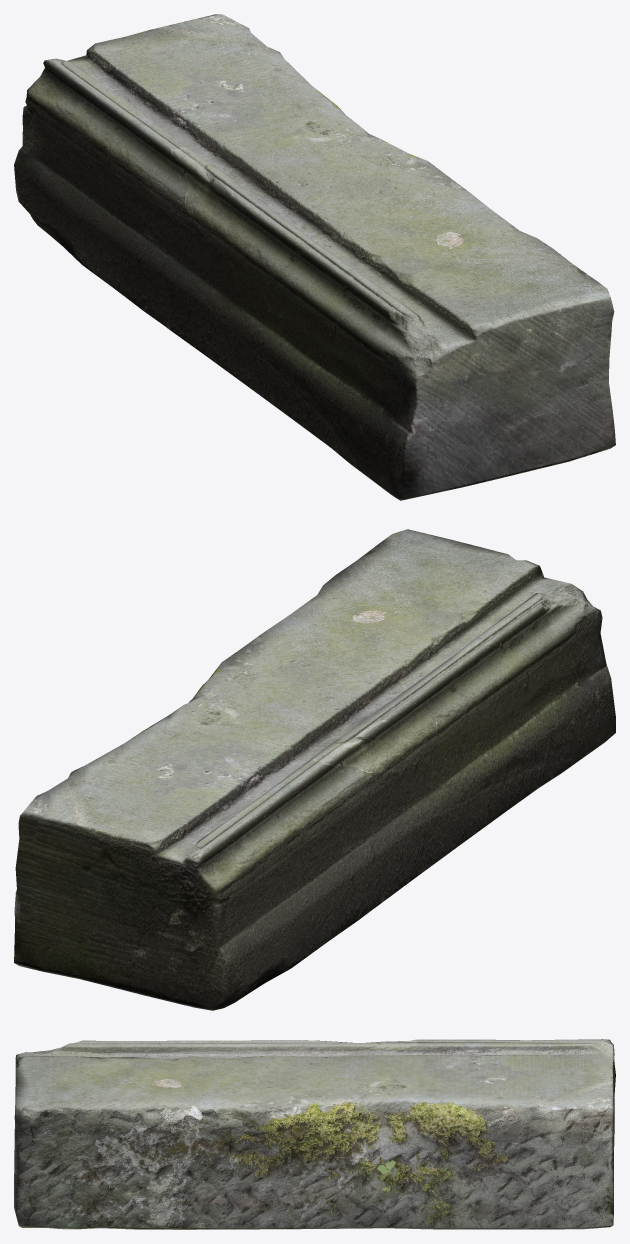
The model's file is sm_GraveDebris_05_01.fbx.
3 renders of one model, top to bottom at view 1: azimuth 30°, elevation 25°; view 2: azimuth 150°, elevation 25°; view 3: azimuth 270°, elevation 25°, orthographic. The views are drawn at different scales.
Visible parts, largest first — view 1: sm_GraveDebris_05_01_LOD0; view 2: sm_GraveDebris_05_01_LOD0; view 3: sm_GraveDebris_05_01_LOD0.
Part boxes in pixels (bbox=[...]): sm_GraveDebris_05_01_LOD0: bbox=[14, 14, 615, 500]; sm_GraveDebris_05_01_LOD0: bbox=[14, 529, 615, 1010]; sm_GraveDebris_05_01_LOD0: bbox=[14, 1039, 615, 1229].
Size of the model in its own units: 51.97 by 151 by 33.62.
